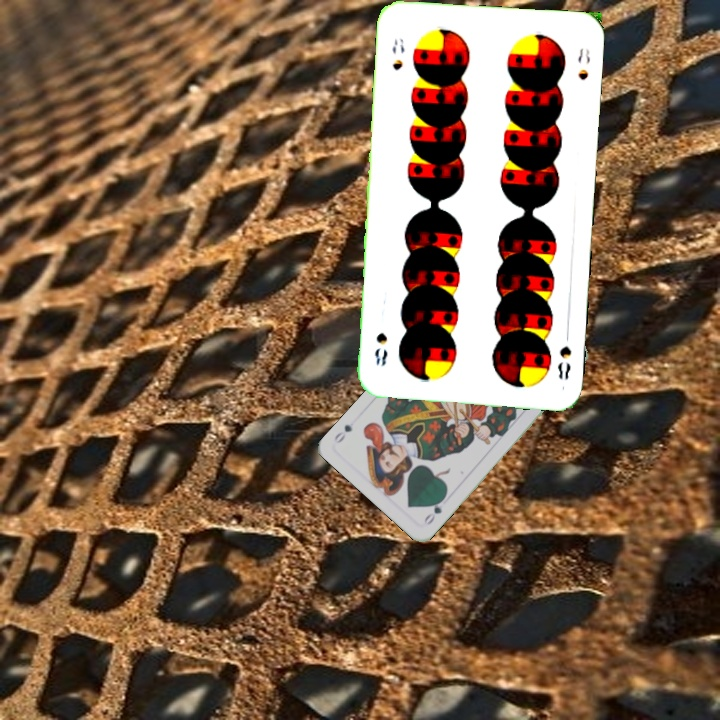GO: (419, 493, 448, 528)
S8: (554, 326, 574, 382), (388, 34, 407, 73)
